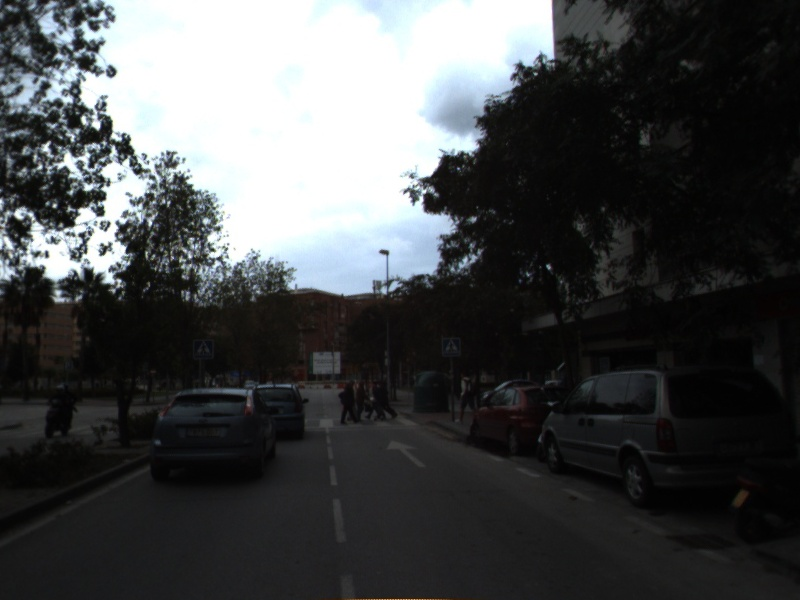STRAIGHT: (385, 439, 429, 470)
